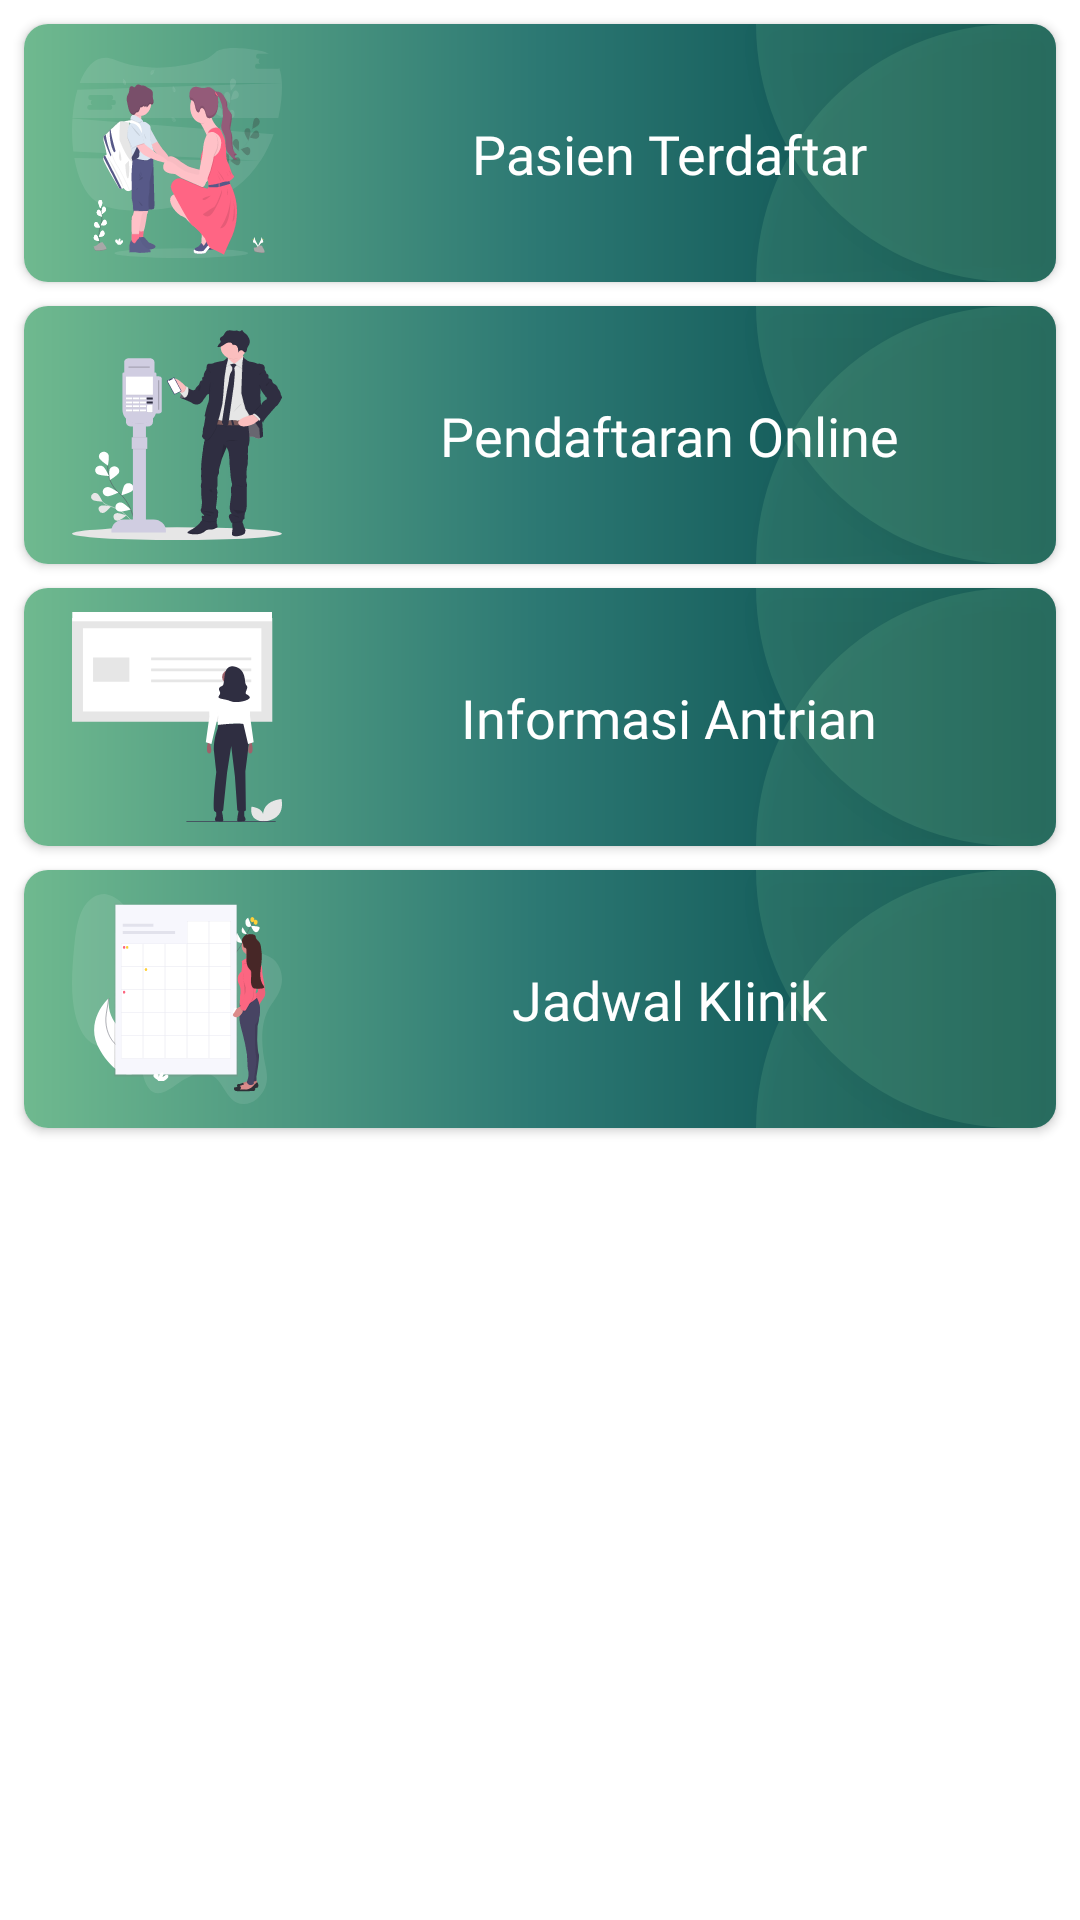

Icons on this 1080w x 1920h Android screen, each with its box as box=[x1, y1, x2, y2]:
anggota keluarga: box=[72, 48, 265, 258]
daftar online: box=[72, 330, 282, 540]
info antrian: box=[72, 612, 282, 822]
jadwal klinik: box=[72, 894, 266, 1104]
